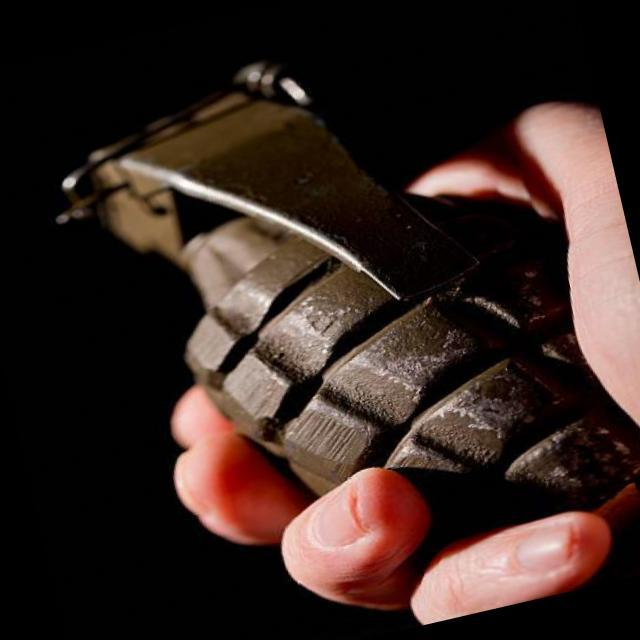grenade: (37, 3, 640, 607)
